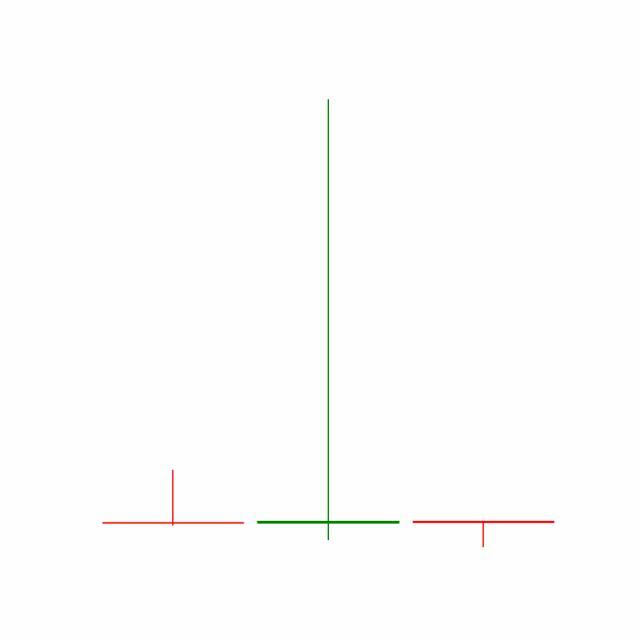Gravestone Doji: (250, 95, 407, 546)
